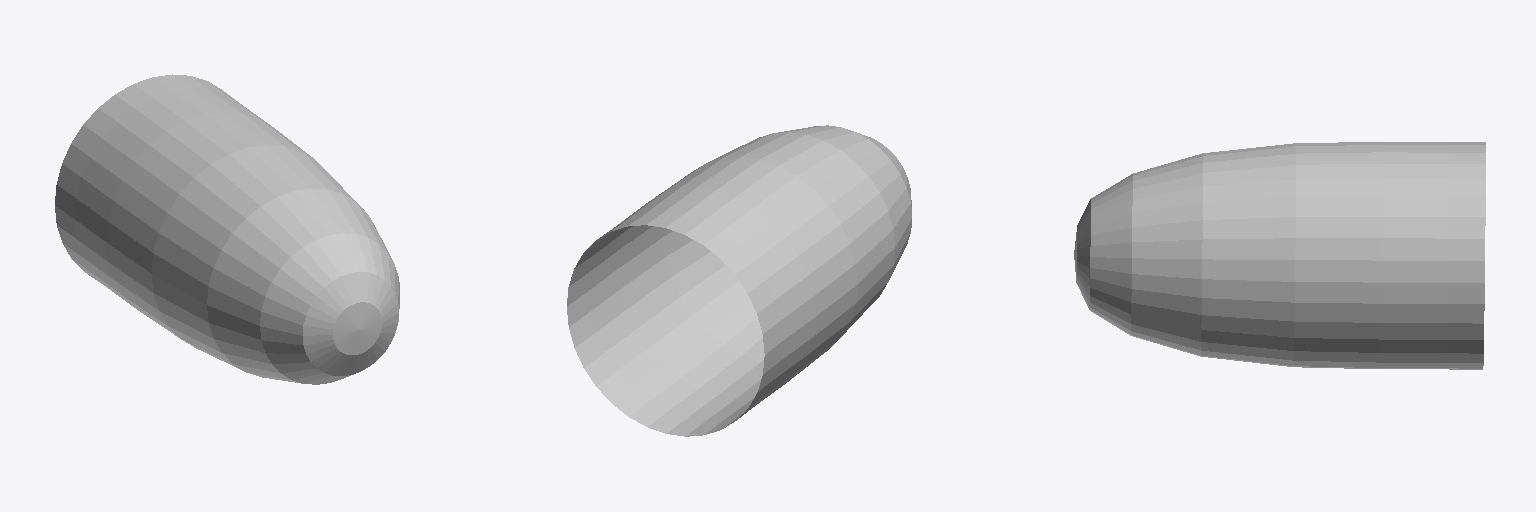
Rendered from fireball_head_mesh.obj.
The picture shows the model from 3 angles: view 1: azimuth 30°, elevation 25°; view 2: azimuth 150°, elevation 25°; view 3: azimuth 270°, elevation 25°; orthographic projection.
Visible parts, largest first — view 1: Sphere; view 2: Sphere; view 3: Sphere.
Part boxes in pixels (left/top/right/bottom): Sphere: left=55, top=74, right=399, bottom=384; Sphere: left=567, top=125, right=911, bottom=436; Sphere: left=1074, top=142, right=1485, bottom=369.
Bounding box in the file's own units: 1.56 × 1.57 × 2.82.